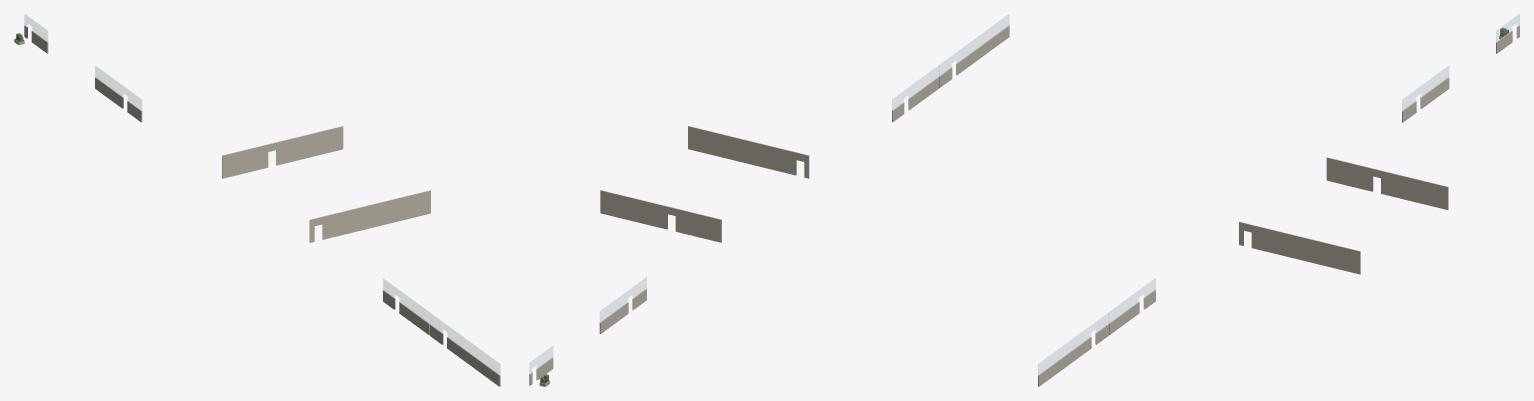
Rendered from D04_STARBOARD_FORWARD_WORK_PATCH_r001.glb.
The picture shows the model from 3 angles, left to right: view 1: azimuth 30°, elevation 25°; view 2: azimuth 150°, elevation 25°; view 3: azimuth 330°, elevation 25°; orthographic projection.
Visible parts, largest first — view 1: D04SC_SouthWall, D04SC_NorthWall, D04SFH_D04HC5_west_PrivacyScreen, D04SFH_D04HC5_west_GlassUpper, D04SFH_D04HC_west_PrivacyScreen, D04SFH_D04HC4_west_PrivacyScreen, D04SFH_D04HC4_west_GlassUpper, D04SFH_D04HC_west_GlassUpper; view 2: D04SC_NorthWall, D04SC_SouthWall, D04SFH_D04HC5_west_PrivacyScreen, D04SFH_D04HC5_west_GlassUpper, D04SFH_D04HC4_west_PrivacyScreen, D04SFH_D04HC_west_PrivacyScreen, D04SFH_D04HC4_west_GlassUpper, D04SFH_D04HC_west_GlassUpper; view 3: D04SC_SouthWall, D04SC_NorthWall, D04SFH_D04HC5_west_PrivacyScreen, D04SFH_D04HC5_west_GlassUpper, D04SFH_D04HC_west_PrivacyScreen, D04SFH_D04HC4_west_PrivacyScreen, D04SFH_D04HC_west_GlassUpper, D04SFH_D04HC4_west_GlassUpper.
Part boxes in pixels (x1=…): D04SC_SouthWall: x1=222, y1=126, x2=343, y2=178; D04SC_NorthWall: x1=309, y1=190, x2=430, y2=242; D04SFH_D04HC5_west_PrivacyScreen: x1=430, y1=324, x2=500, y2=386; D04SFH_D04HC5_west_GlassUpper: x1=430, y1=313, x2=500, y2=374; D04SFH_D04HC_west_PrivacyScreen: x1=95, y1=77, x2=142, y2=122; D04SFH_D04HC4_west_PrivacyScreen: x1=383, y1=290, x2=430, y2=335; D04SFH_D04HC4_west_GlassUpper: x1=383, y1=279, x2=429, y2=323; D04SFH_D04HC_west_GlassUpper: x1=95, y1=66, x2=141, y2=110; D04SC_NorthWall: x1=688, y1=126, x2=809, y2=178; D04SC_SouthWall: x1=600, y1=190, x2=721, y2=242; D04SFH_D04HC5_west_PrivacyScreen: x1=939, y1=25, x2=1009, y2=87; D04SFH_D04HC5_west_GlassUpper: x1=939, y1=14, x2=1009, y2=75; D04SFH_D04HC4_west_PrivacyScreen: x1=892, y1=77, x2=939, y2=122; D04SFH_D04HC_west_PrivacyScreen: x1=599, y1=289, x2=646, y2=333; D04SFH_D04HC4_west_GlassUpper: x1=892, y1=66, x2=938, y2=110; D04SFH_D04HC_west_GlassUpper: x1=600, y1=277, x2=646, y2=321; D04SC_SouthWall: x1=1326, y1=157, x2=1448, y2=209; D04SC_NorthWall: x1=1239, y1=221, x2=1360, y2=274; D04SFH_D04HC5_west_PrivacyScreen: x1=1038, y1=324, x2=1108, y2=386; D04SFH_D04HC5_west_GlassUpper: x1=1038, y1=313, x2=1108, y2=374; D04SFH_D04HC_west_PrivacyScreen: x1=1402, y1=77, x2=1449, y2=122; D04SFH_D04HC4_west_PrivacyScreen: x1=1109, y1=290, x2=1155, y2=334; D04SFH_D04HC_west_GlassUpper: x1=1402, y1=66, x2=1448, y2=110; D04SFH_D04HC4_west_GlassUpper: x1=1109, y1=278, x2=1155, y2=323.
Size of the model in its own units: 24.9 by 3.98 by 150.
8 materials, 5 textured.
